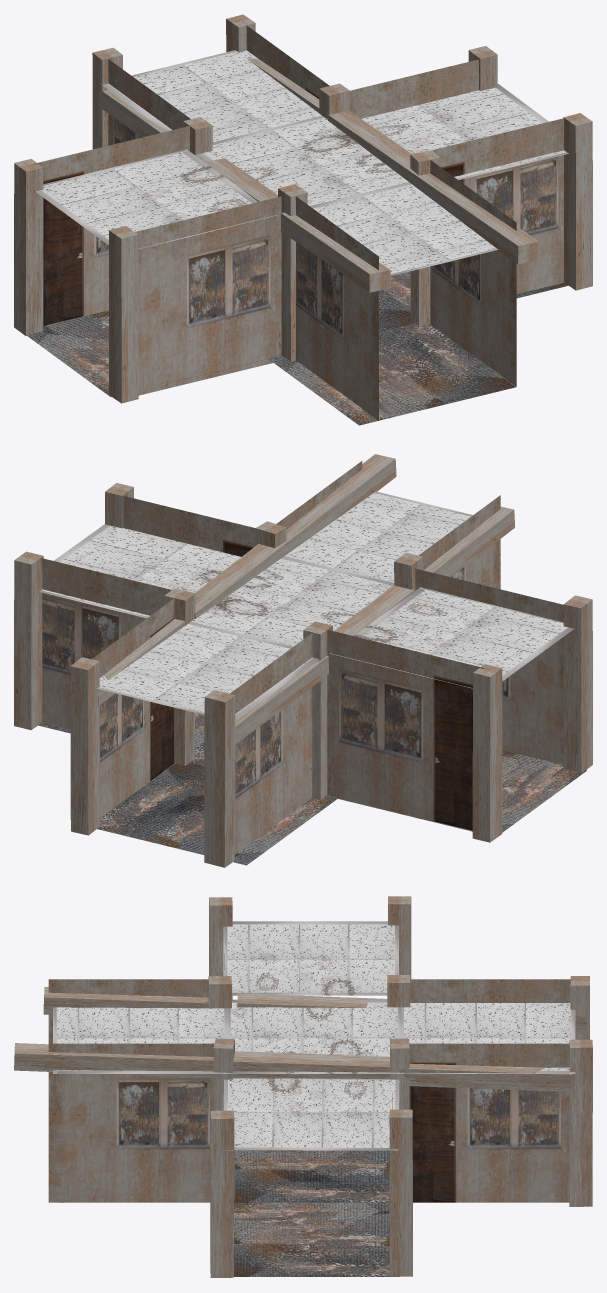
The model's file is t_right.gltf.
The picture shows the model from 3 angles, top to bottom: view 1: azimuth 30°, elevation 25°; view 2: azimuth 150°, elevation 25°; view 3: azimuth 270°, elevation 25°; orthographic projection. The views are drawn at different scales.
Visible parts, largest first — view 1: center_left_back_wall.001, front_left_wall, center_right_back_wall, cieling_center_left, floor_front, center_left_back_wall, cieling_center, cieling_back, front_right_wall, cieling_front, cieling_center_right, center_pillar_left.001 (+21 smaller); view 2: center_left_back_wall, back_left_wall, cieling_center_left, center_right_back_wall.001, cieling_back, cieling_center, center_left_back_wall.001, cieling_front, back_right_wall, floor_back, cieling_center_right, back_left_pillar (+19 smaller); view 3: front_right_wall, back_right_wall, cieling_center_left, cieling_center_right, floor_center_right, cieling_center, floor_center, cieling_back, cieling_front, center_pillar_left.002, front_right_support_beam, center_left_pillar.002 (+14 smaller).
Boxes of the visible parts, x1=… form: center_left_back_wall.001: x1=135, y1=196, x2=281, y2=395; front_left_wall: x1=296, y1=196, x2=378, y2=420; center_right_back_wall: x1=432, y1=118, x2=563, y2=293; cieling_center_left: x1=35, y1=149, x2=276, y2=249; floor_front: x1=268, y1=323, x2=515, y2=425; center_left_back_wall: x1=33, y1=126, x2=189, y2=325; cieling_center: x1=197, y1=116, x2=410, y2=206; cieling_back: x1=100, y1=50, x2=322, y2=142; front_right_wall: x1=430, y1=160, x2=516, y2=386; cieling_front: x1=311, y1=183, x2=498, y2=275; cieling_center_right: x1=362, y1=83, x2=568, y2=180; center_pillar_left.001: x1=109, y1=226, x2=138, y2=403; center_left_back_wall: x1=327, y1=629, x2=484, y2=830; back_left_wall: x1=230, y1=633, x2=312, y2=854; cieling_center_left: x1=330, y1=587, x2=574, y2=688; center_right_back_wall.001: x1=42, y1=558, x2=171, y2=729; cieling_back: x1=97, y1=623, x2=318, y2=721; cieling_center: x1=189, y1=557, x2=413, y2=647; center_left_back_wall.001: x1=415, y1=568, x2=563, y2=764; cieling_front: x1=283, y1=491, x2=472, y2=589; back_right_wall: x1=92, y1=598, x2=174, y2=818; floor_back: x1=97, y1=762, x2=337, y2=865; cieling_center_right: x1=39, y1=524, x2=240, y2=618; back_left_pillar: x1=204, y1=690, x2=235, y2=867; front_right_wall: x1=48, y1=1043, x2=214, y2=1202; back_right_wall: x1=409, y1=1043, x2=569, y2=1202; cieling_center_left: x1=223, y1=921, x2=398, y2=995; cieling_center_right: x1=223, y1=1078, x2=399, y2=1150; floor_center_right: x1=234, y1=1202, x2=399, y2=1276; cieling_center: x1=226, y1=999, x2=402, y2=1073; floor_center: x1=234, y1=1150, x2=389, y2=1202; cieling_back: x1=400, y1=1003, x2=575, y2=1073; cieling_front: x1=53, y1=1007, x2=228, y2=1073; center_pillar_left.002: x1=210, y1=1110, x2=234, y2=1277; front_right_support_beam: x1=14, y1=1043, x2=213, y2=1077; center_left_pillar.002: x1=389, y1=1109, x2=412, y2=1276.
Size of the model in its own units: 6.06 by 2.07 by 6.6.
Materials: 10 (10 with a texture image).
